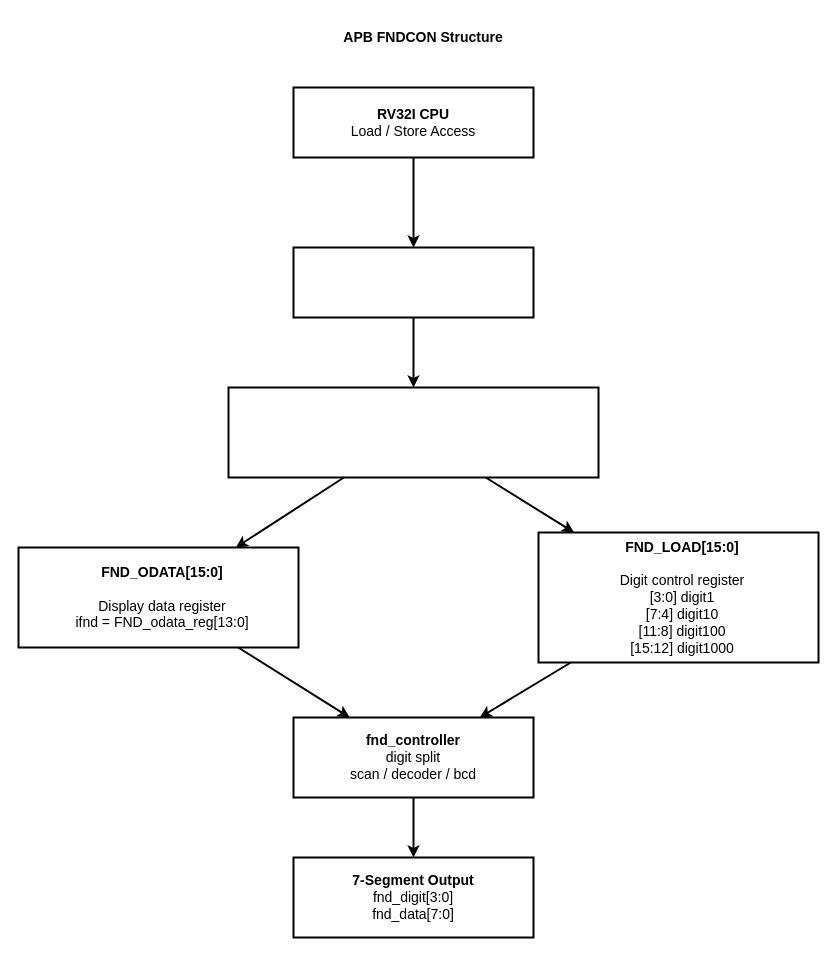
This 836x955 diagram has some shape labels left out. The centre of each missing label's shape, as x and y in pixels:
"APB_FNDCON APB Slave" goes at pixel 413 282.
"Registers FND_ODATA : 0x2000_1000 FND_LOAD : 0x2000_1004" goes at pixel 413 432.
